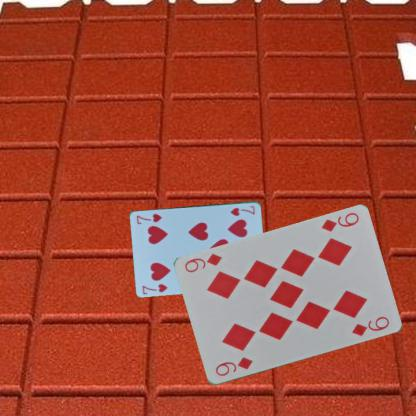7h: (228, 203, 257, 217), (140, 281, 169, 295)
9d: (318, 210, 360, 233), (213, 355, 254, 378)
